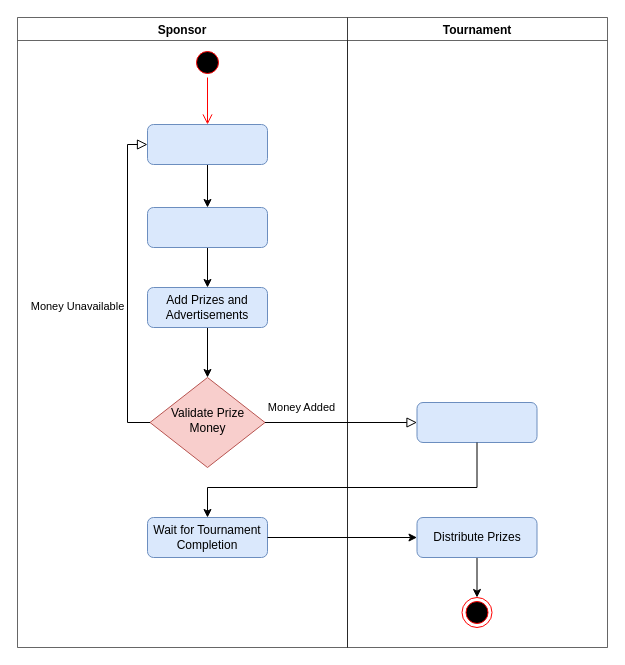
Some shapes in this 625 by 665 pixel diagram are drawn without their labels. The centre of each missing label's shape, as x and y in pixels:
"Display Prizes and Advertisements" belongs at (476,422).
"Select a Tournament to Sponsor" belongs at (207,227).
"View Sponsor Page" belongs at (207,144).
